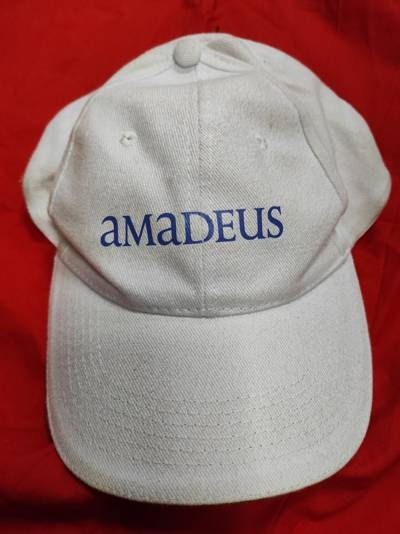Hat: (22, 12, 395, 503)
